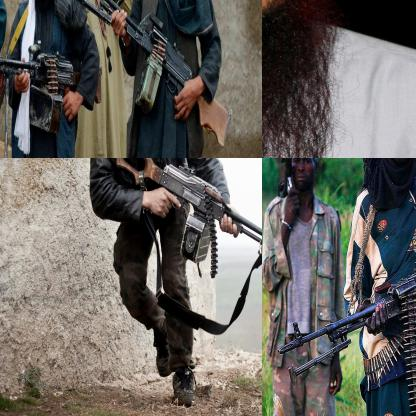rifle: (62, 0, 232, 151), (109, 158, 261, 304), (275, 247, 415, 395), (0, 34, 104, 132), (273, 158, 300, 202)
